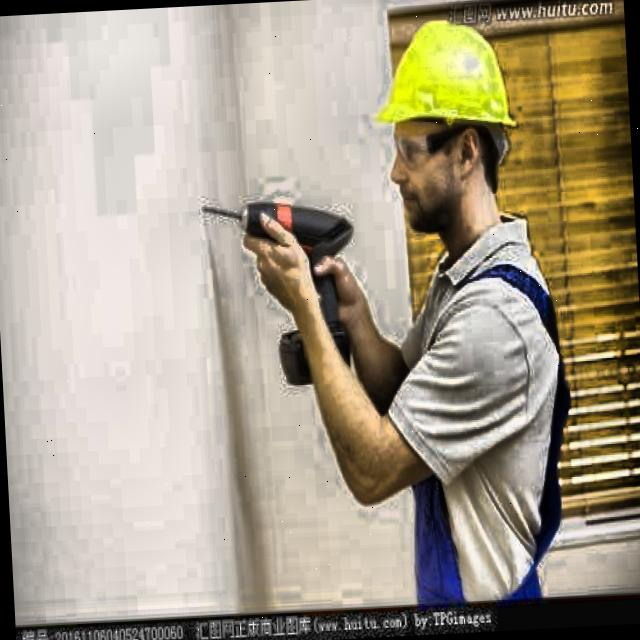helmet: (355, 2, 535, 264)
